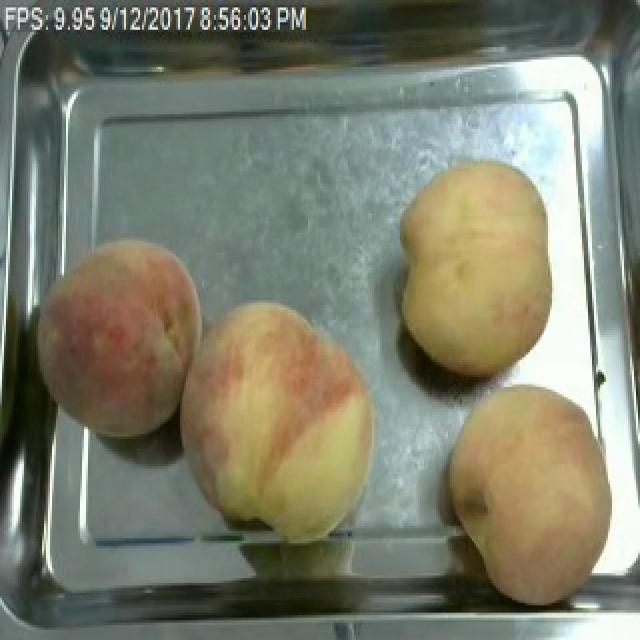Fruit: (170, 290, 386, 548), (436, 372, 630, 613), (20, 226, 216, 447), (388, 149, 568, 387)
